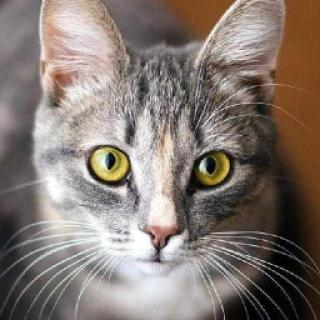cat: (30, 0, 293, 274)
nose: (134, 205, 191, 257)
